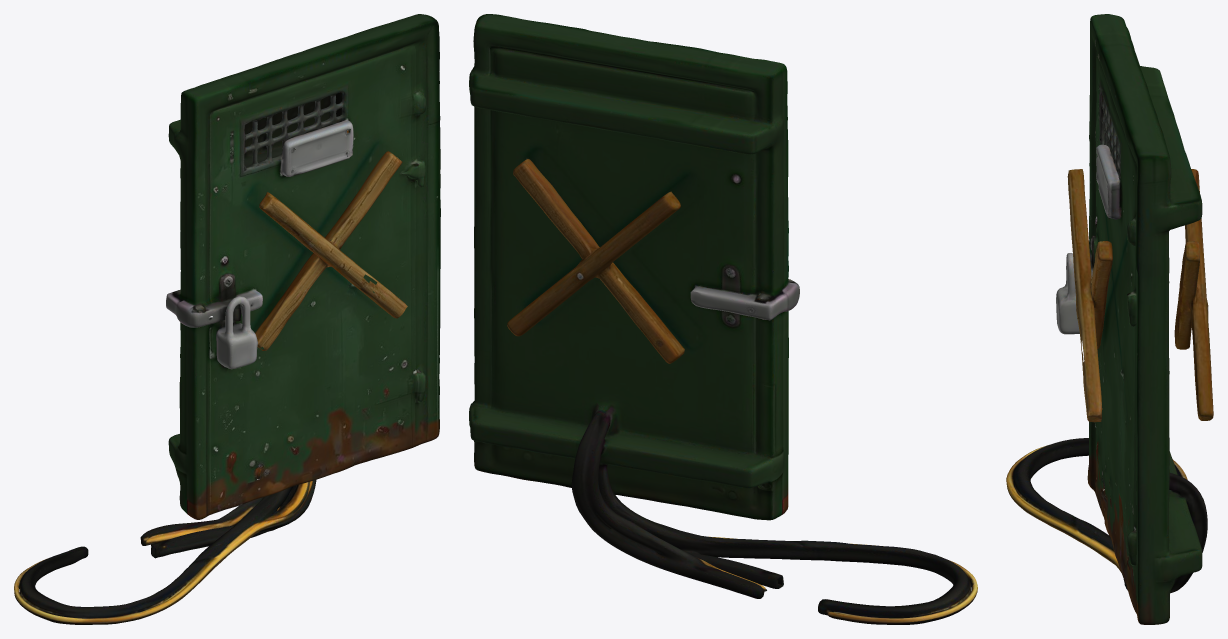
Rendered from g67_service_door.glb.
3 renders of one model, left to right at view 1: azimuth 30°, elevation 25°; view 2: azimuth 150°, elevation 25°; view 3: azimuth 270°, elevation 25°, orthographic. The views are drawn at different scales.
Visible parts, largest first — view 1: tripo_node_0482567c; view 2: tripo_node_0482567c; view 3: tripo_node_0482567c.
Part boxes in pixels (<box>): tripo_node_0482567c: <box>14,14,440,624</box>; tripo_node_0482567c: <box>469,14,977,624</box>; tripo_node_0482567c: <box>1006,14,1213,624</box>.
Bounding box in the file's own units: 94.04 × 97.93 × 34.71.
Materials: 1 (1 with a texture image).
